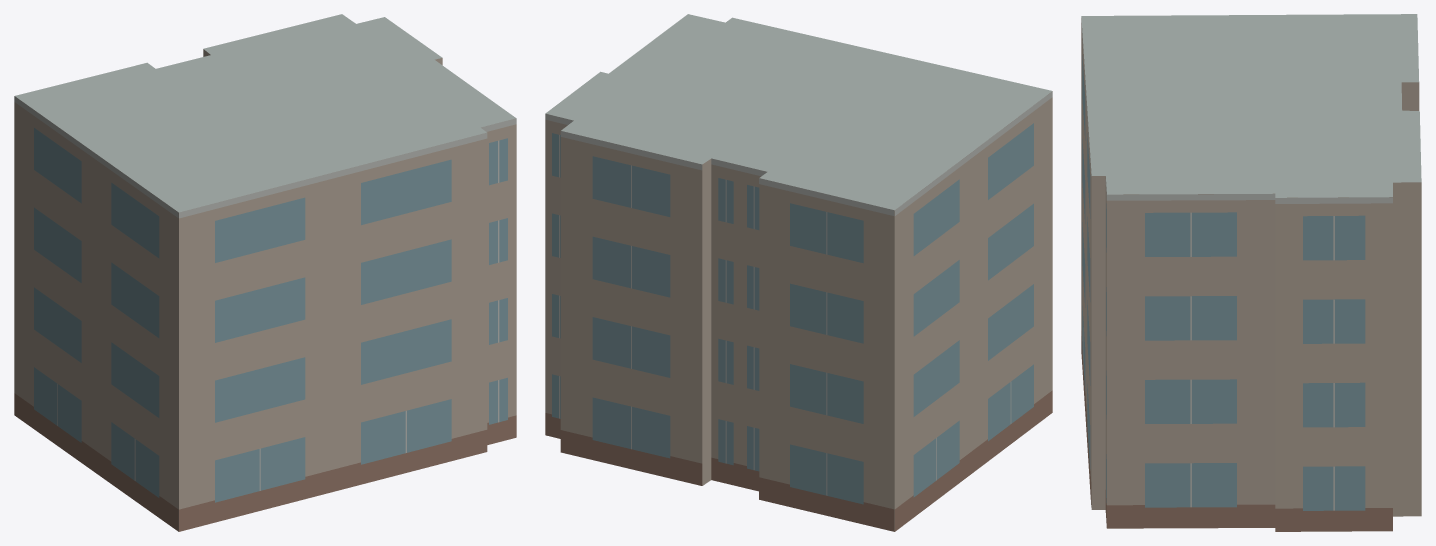
File: survey-upis-32616742.glb
3 views of the same model, side by side, from view 1: azimuth 30°, elevation 25°; view 2: azimuth 150°, elevation 25°; view 3: azimuth 270°, elevation 25° (orthographic). The views are drawn at different scales.
Parts seen in each view (by area): view 1: survey-upis-32616742.tmp; view 2: survey-upis-32616742.tmp; view 3: survey-upis-32616742.tmp.
Part boxes in pixels (x1=…): survey-upis-32616742.tmp: x1=14, y1=14, x2=516, y2=531; survey-upis-32616742.tmp: x1=545, y1=14, x2=1052, y2=531; survey-upis-32616742.tmp: x1=1081, y1=14, x2=1421, y2=531.
Bounding box in the file's own units: 15.41 × 13.05 × 12.06.
